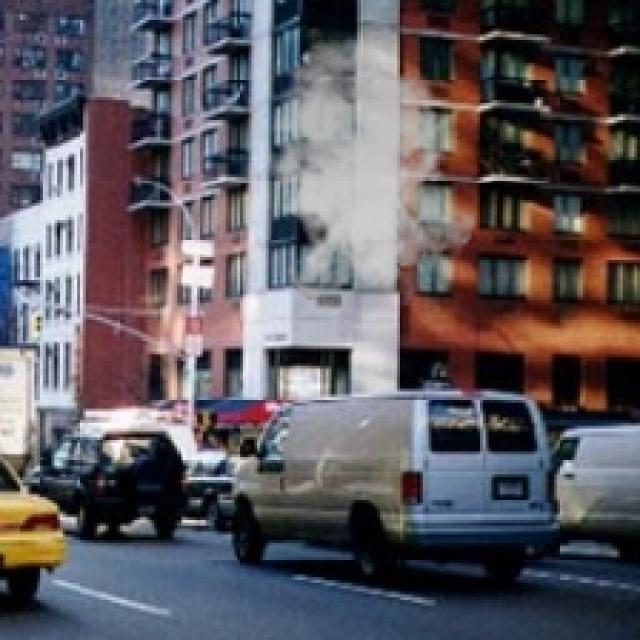Smoke: (248, 37, 474, 306)
